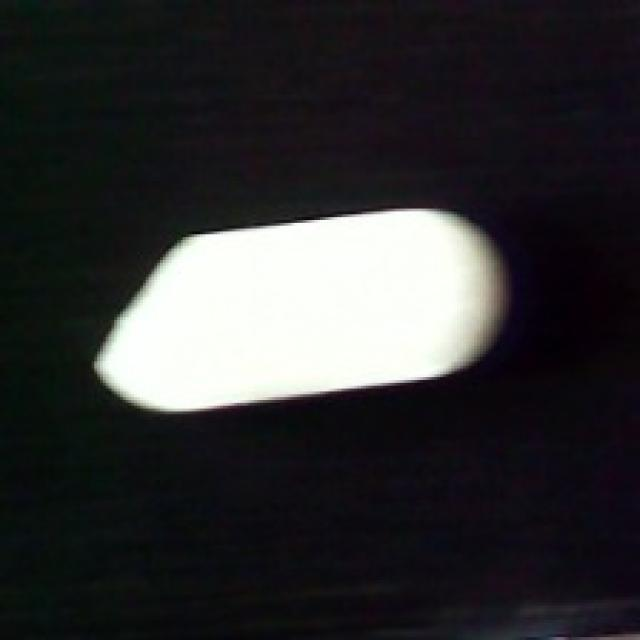defected: (91, 209, 508, 414)
